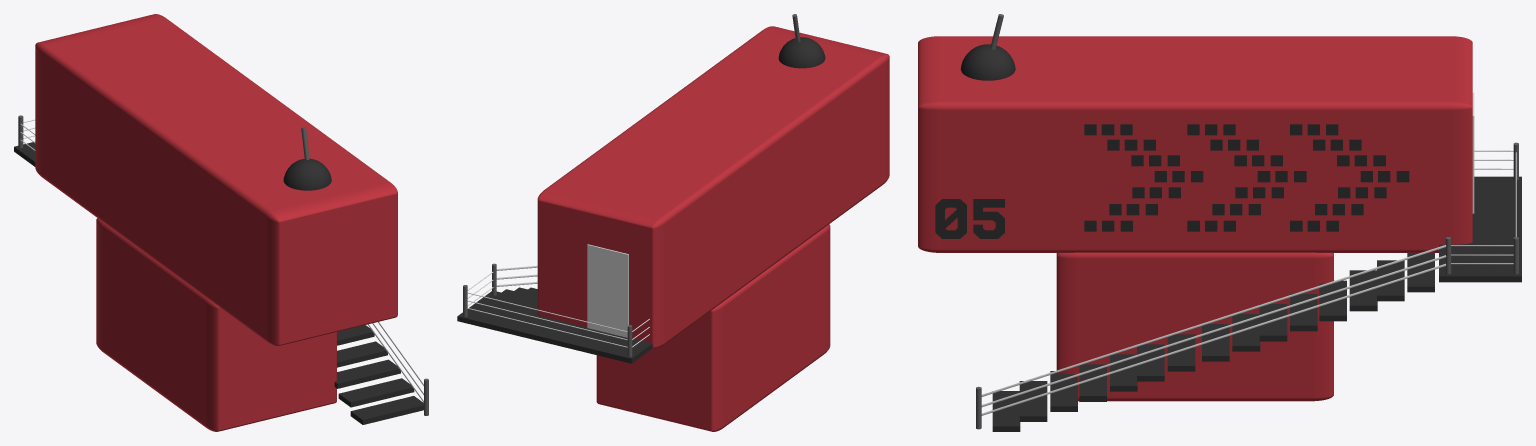
The model's file is bat_4.fbx.
3 renders of one model, left to right at view 1: azimuth 30°, elevation 25°; view 2: azimuth 150°, elevation 25°; view 3: azimuth 270°, elevation 25°, orthographic. The views are drawn at different scales.
Parts seen in each view (by area): view 1: Cube.001, Cube.005, Sphere, Cube.022, Cube.024, Cube.021, Cylinder.013; view 2: Cube.001, Cube.004, Cube, Cylinder.013, Sphere; view 3: Cube.001, Cube.005, Cube.004, Cylinder.013, Text, Sphere, Cube.022, Cube.024, Cube.021.
Part boxes in pixels (<box>): Cube.001: <box>35,14,397,431</box>; Cube.005: <box>337,325,387,367</box>; Sphere: <box>283,158,331,190</box>; Cube.022: <box>338,378,414,407</box>; Cube.024: <box>350,396,423,424</box>; Cube.021: <box>334,359,400,388</box>; Cylinder.013: <box>20,119,423,402</box>; Cube.001: <box>537,26,889,431</box>; Cube.004: <box>457,291,652,363</box>; Cube: <box>587,244,628,337</box>; Cylinder.013: <box>467,265,649,347</box>; Sphere: <box>778,37,825,68</box>; Cube.001: <box>918,36,1472,401</box>; Cube.005: <box>1079,253,1434,401</box>; Cube.004: <box>1439,176,1521,282</box>; Cylinder.013: <box>981,150,1516,415</box>; Text: <box>935,199,1004,238</box>; Sphere: <box>960,44,1015,80</box>; Cube.022: <box>1019,381,1047,421</box>; Cube.024: <box>992,391,1020,431</box>; Cube.021: <box>1050,371,1077,411</box>.
Bounding box in the file's own units: 871 × 1410 × 2177.
